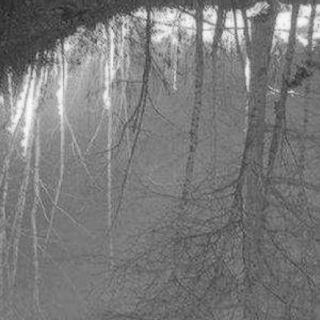Fire: (4, 7, 316, 153)
